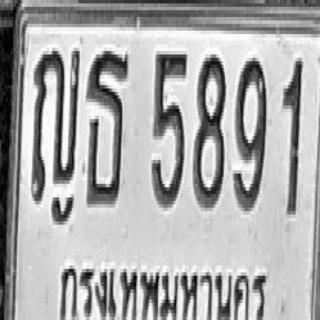A13: (32, 46, 80, 202)
A24: (86, 50, 128, 206)
N01: (282, 56, 302, 216)
N05: (151, 49, 187, 209)
N08: (193, 51, 226, 208)
N09: (233, 54, 267, 211)
P04: (60, 248, 272, 320)
